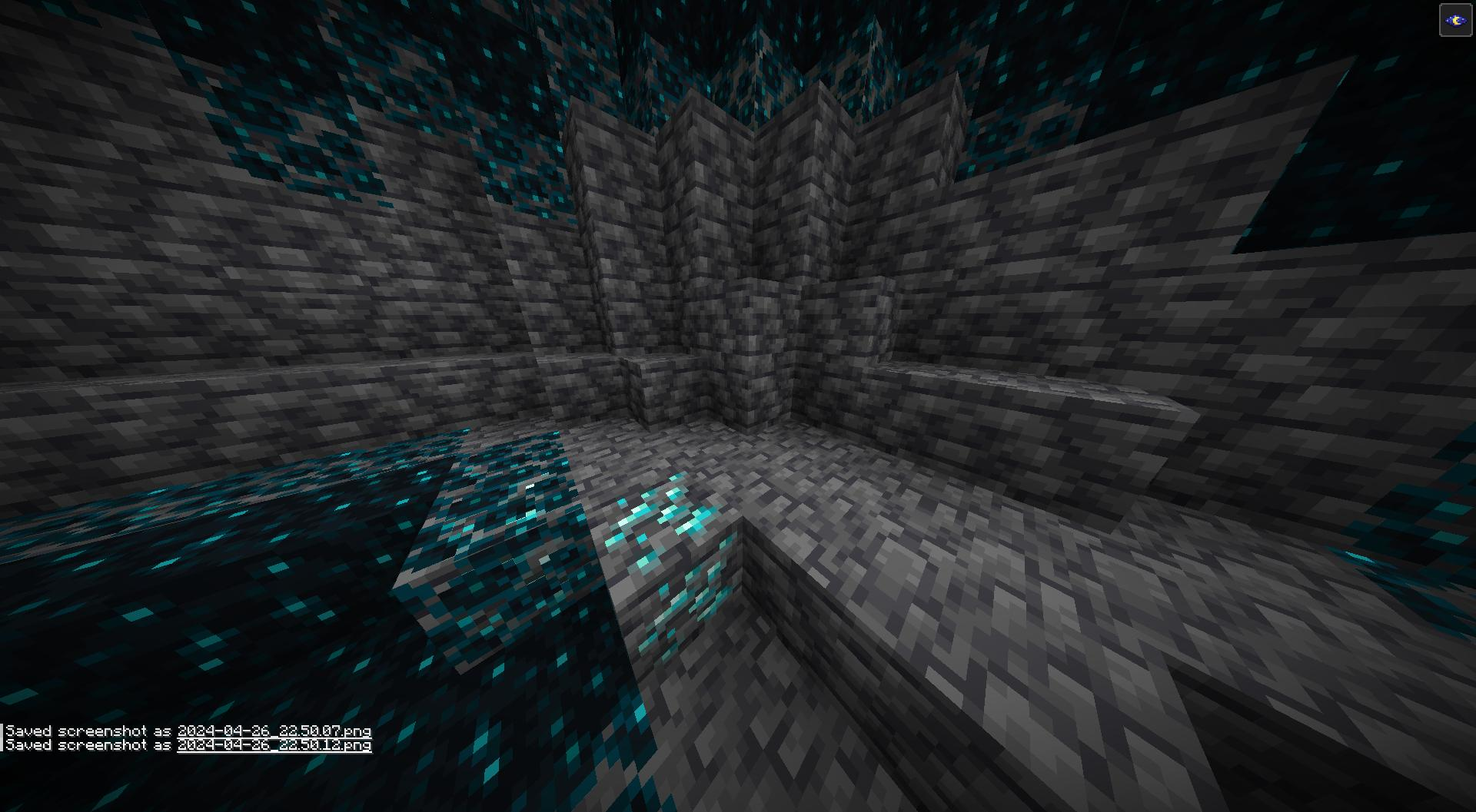diamond ore: (644, 534, 743, 666), (599, 470, 722, 565)
